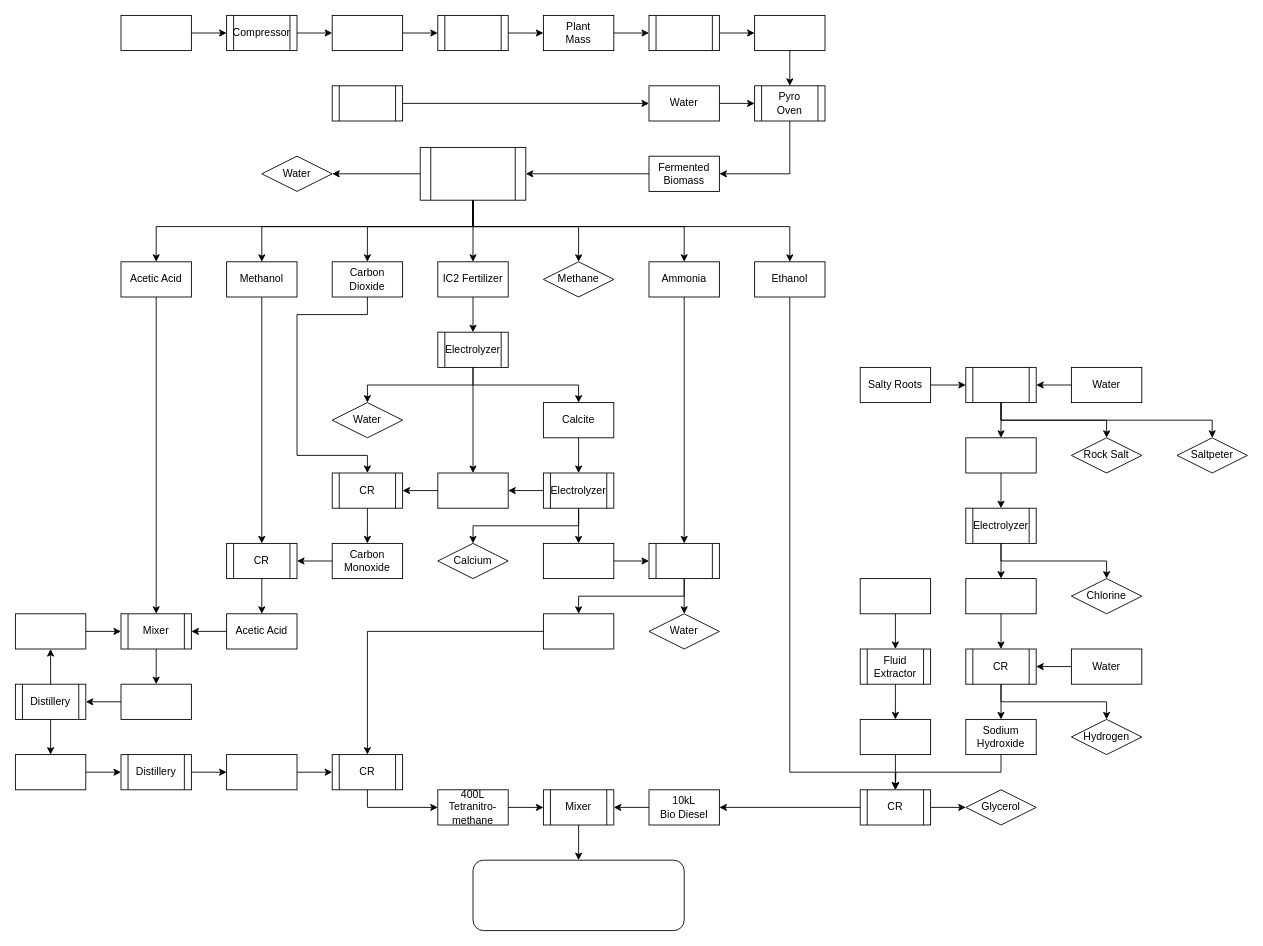
The diagram is 1263 pixels wide and 946 high, and some of its shapes have lost their labels. Here are the shapes that lost their labels. From the top down, the box of each, then its label:
(120, 15, 191, 51): Spruce Saplings
(331, 15, 403, 51): Plantball
(437, 15, 508, 51): Macerator
(648, 15, 719, 51): Centrifuge
(754, 15, 825, 51): Bio Chaff
(331, 85, 403, 121): Urn
(419, 147, 526, 200): Distillation Tower
(965, 367, 1036, 403): Chemical Bath
(965, 437, 1036, 473): Salt
(437, 472, 508, 508): Carbon
(543, 543, 614, 579): Oxygen
(648, 543, 719, 579): LCR
(859, 578, 931, 614): Rape
(965, 578, 1036, 614): Sodium
(15, 613, 86, 649): Quicklime Dust
(543, 613, 614, 649): Nitric Acid
(120, 683, 191, 719): Calcium Acetate Solution
(859, 719, 931, 755): Seed Oil
(15, 754, 86, 790): Acetone
(226, 754, 297, 790): Ethenone
(472, 859, 684, 931): 9kL Cetane-Boosted Diesel
